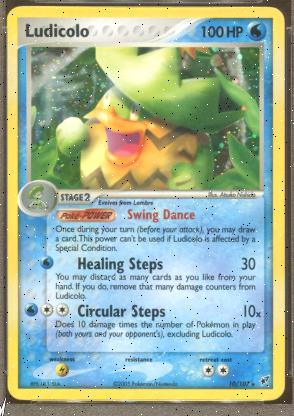Card: (4, 5, 286, 402)
